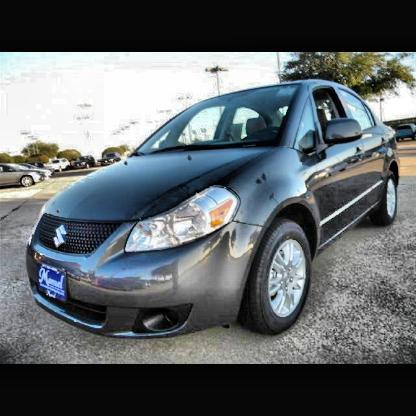Suzuki SX4 Sedan 2012: (28, 81, 403, 341)
